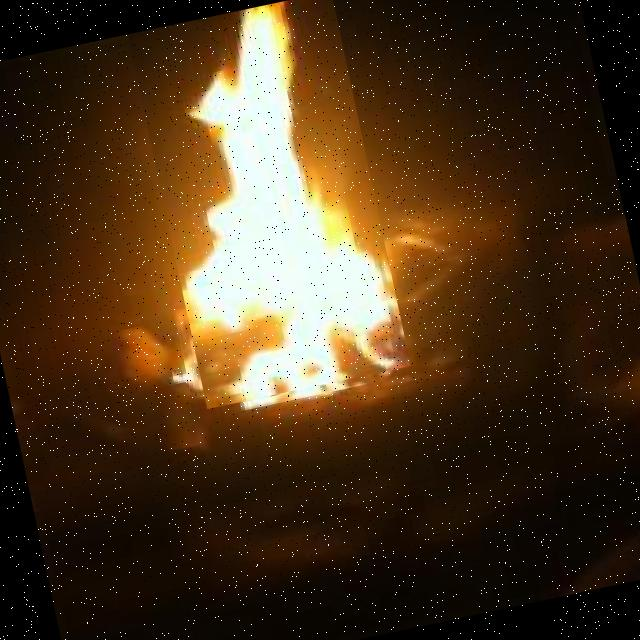fire: (127, 0, 410, 408)
